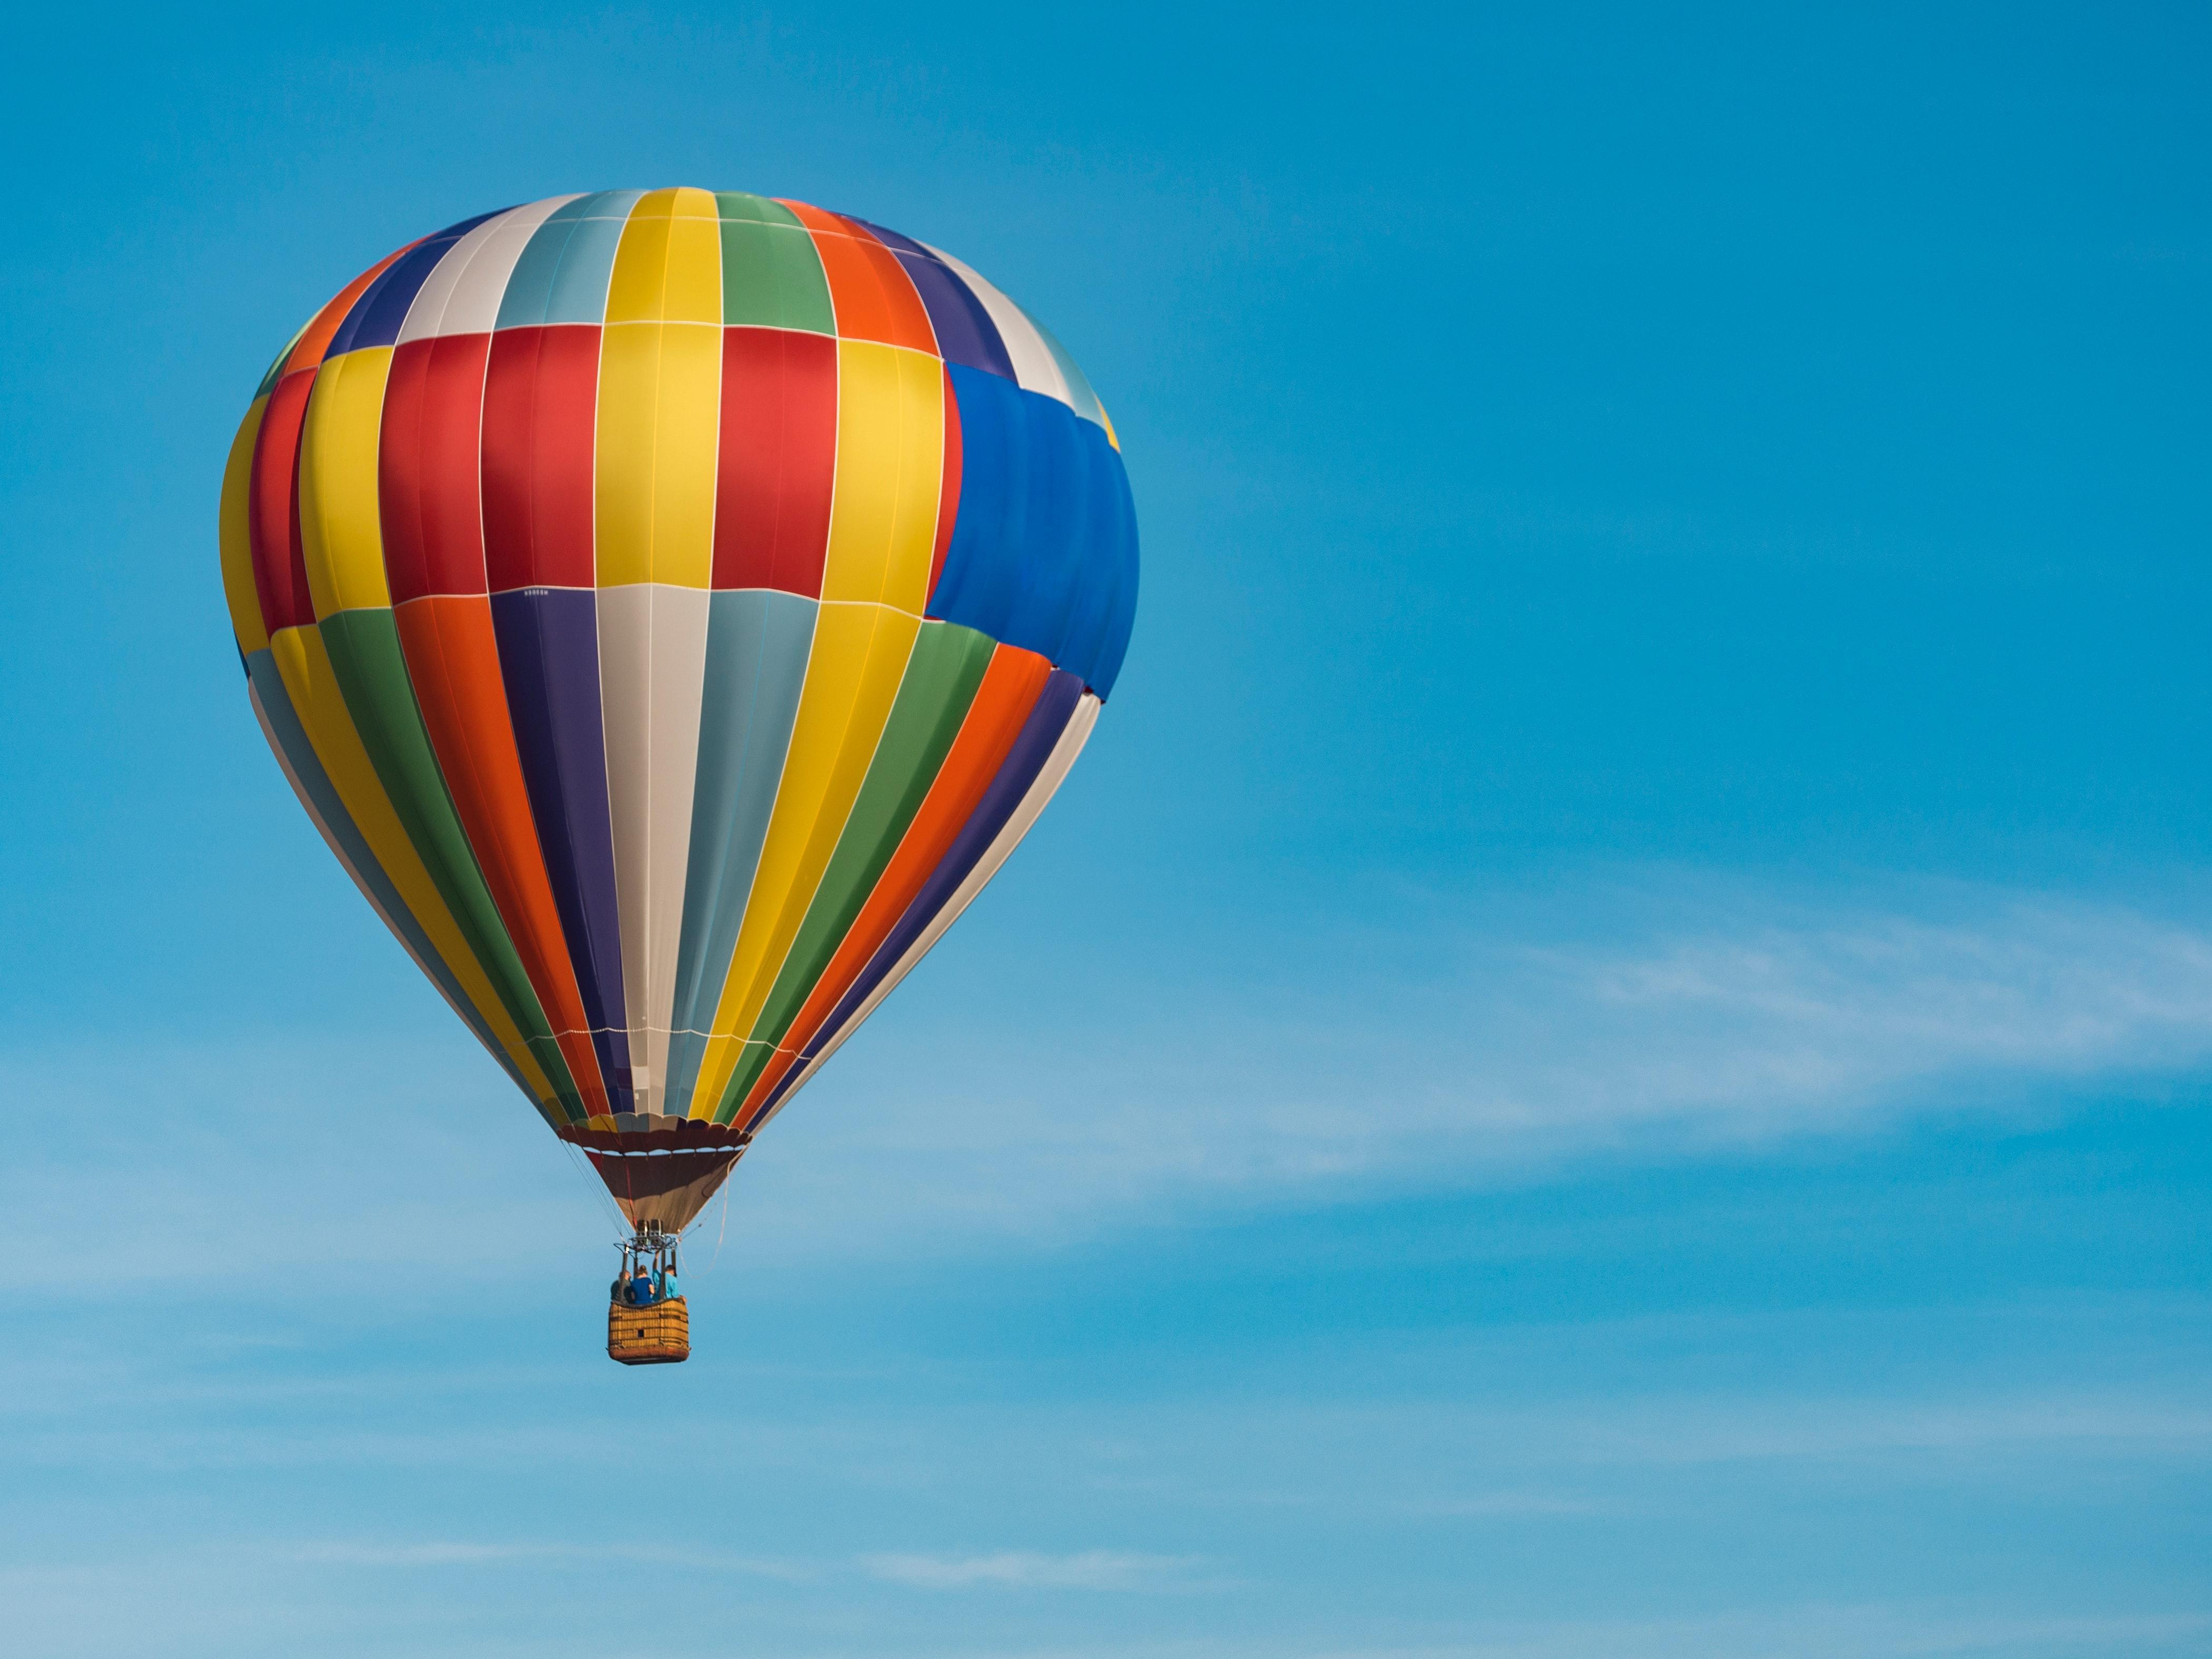hot air ballon: (220, 179, 1137, 1370)
